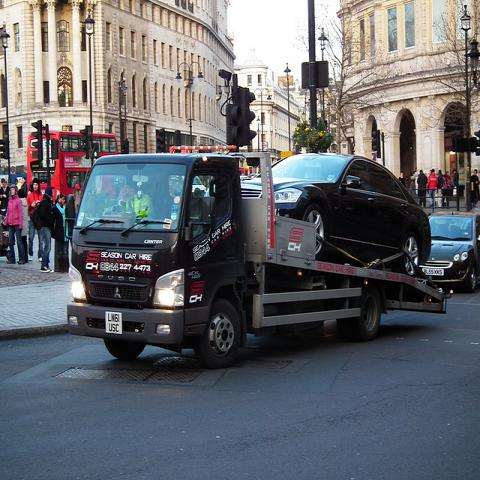bus: (29, 119, 120, 197)
car: (239, 152, 432, 279), (415, 208, 479, 293)
truck: (67, 147, 448, 373)
